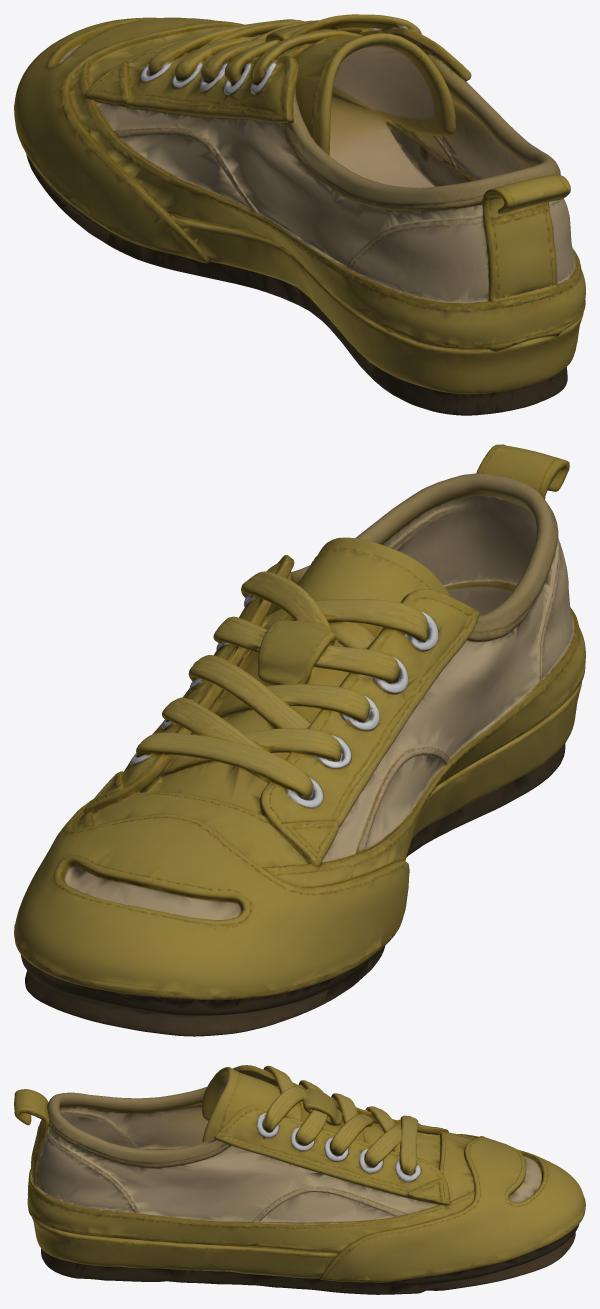
Rendered from mustard.glb.
3 renders of one model, top to bottom at view 1: azimuth 30°, elevation 25°; view 2: azimuth 150°, elevation 25°; view 3: azimuth 270°, elevation 25°, orthographic. The views are drawn at different scales.
Parts seen in each view (by area): view 1: tripo_node_0920a8c9-cf05-439b-953d-6895ccbd10e6; view 2: tripo_node_0920a8c9-cf05-439b-953d-6895ccbd10e6; view 3: tripo_node_0920a8c9-cf05-439b-953d-6895ccbd10e6.
Boxes of the visible parts, left/top/right/bottom form: tripo_node_0920a8c9-cf05-439b-953d-6895ccbd10e6: left=14, top=14, right=585, bottom=415; tripo_node_0920a8c9-cf05-439b-953d-6895ccbd10e6: left=14, top=444, right=585, bottom=1036; tripo_node_0920a8c9-cf05-439b-953d-6895ccbd10e6: left=14, top=1065, right=585, bottom=1294.
Bounding box in the file's own units: 0.3871 × 0.3508 × 1.
1 material, 1 textured.
